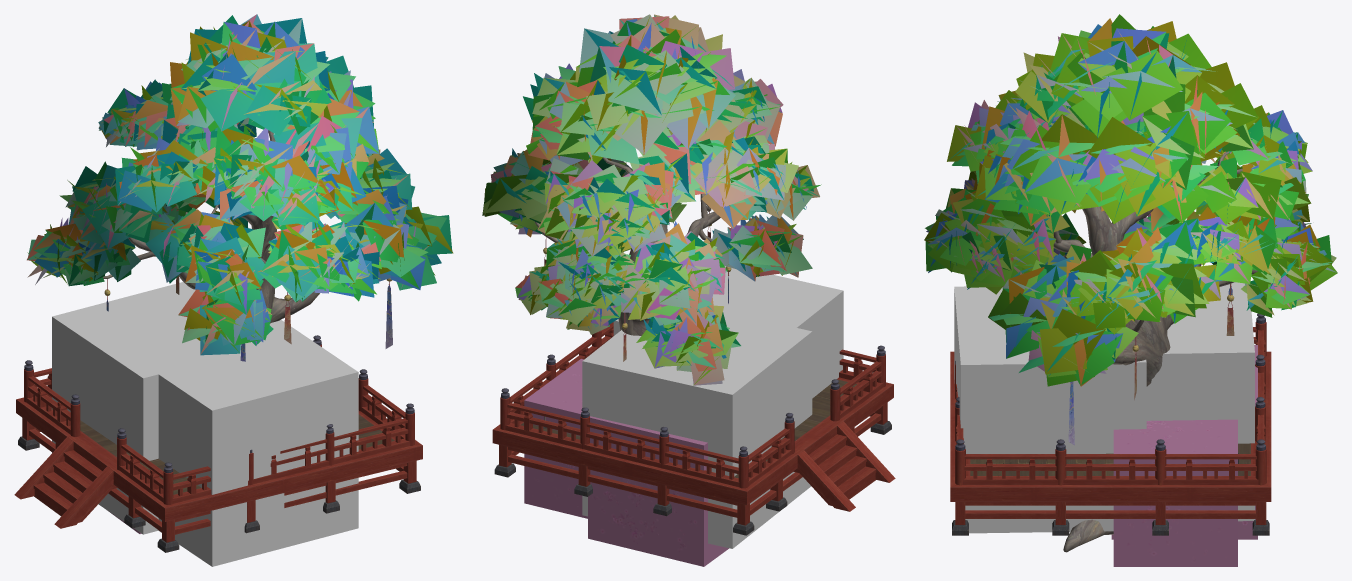
Rendered from Homeworld_Exterior_Dq_Build_Decoration_Sakura_01_Lod0.fbx.
3 renders of one model, left to right at view 1: azimuth 30°, elevation 25°; view 2: azimuth 150°, elevation 25°; view 3: azimuth 270°, elevation 25°, orthographic. The views are drawn at different scales.
Parts seen in each view (by area): view 1: Area_Dq_Tree_Common_Sak_02_Leaf_Lod0, Stages_Decal_Sakura_06_Vo, Homeworld_Exterior_Dq_Build_Decoration_Sakura_01_A_Lod0, Stages_Decal_Sakura_06_Vo (1), Area_Dq_Tree_Common_Sak_02_Bark_Lod0; view 2: Area_Dq_Tree_Common_Sak_02_Leaf_Lod0, Homeworld_Exterior_Dq_Build_Decoration_Sakura_01_A_Lod0, Stages_Decal_Sakura_06_Vo (1), Stages_Decal_Sakura_04_Vo, Stages_Decal_Sakura_06_Vo, Stages_Decal_Sakura_05_Vo, Area_Dq_Tree_Common_Sak_02_Bark_Lod0; view 3: Area_Dq_Tree_Common_Sak_02_Leaf_Lod0, Homeworld_Exterior_Dq_Build_Decoration_Sakura_01_A_Lod0, Stages_Decal_Sakura_06_Vo, Stages_Decal_Sakura_06_Vo (1), Stages_Decal_Sakura_05_Vo, Area_Dq_Tree_Common_Sak_02_Bark_Lod0.
Part boxes in pixels (x1=…): Area_Dq_Tree_Common_Sak_02_Leaf_Lod0: x1=27, y1=14, x2=453, y2=355; Stages_Decal_Sakura_06_Vo: x1=158, y1=320, x2=358, y2=566; Homeworld_Exterior_Dq_Build_Decoration_Sakura_01_A_Lod0: x1=14, y1=335, x2=422, y2=552; Stages_Decal_Sakura_06_Vo (1): x1=52, y1=282, x2=285, y2=534; Area_Dq_Tree_Common_Sak_02_Bark_Lod0: x1=103, y1=127, x2=319, y2=323; Area_Dq_Tree_Common_Sak_02_Leaf_Lod0: x1=482, y1=14, x2=821, y2=385; Homeworld_Exterior_Dq_Build_Decoration_Sakura_01_A_Lod0: x1=492, y1=322, x2=895, y2=535; Stages_Decal_Sakura_06_Vo (1): x1=582, y1=311, x2=812, y2=548; Stages_Decal_Sakura_04_Vo: x1=588, y1=416, x2=728, y2=566; Stages_Decal_Sakura_06_Vo: x1=613, y1=266, x2=843, y2=398; Stages_Decal_Sakura_05_Vo: x1=524, y1=359, x2=587, y2=518; Area_Dq_Tree_Common_Sak_02_Bark_Lod0: x1=534, y1=157, x2=720, y2=335; Area_Dq_Tree_Common_Sak_02_Leaf_Lod0: x1=924, y1=14, x2=1337, y2=386; Homeworld_Exterior_Dq_Build_Decoration_Sakura_01_A_Lod0: x1=950, y1=313, x2=1271, y2=535; Stages_Decal_Sakura_06_Vo: x1=954, y1=286, x2=1146, y2=533; Stages_Decal_Sakura_06_Vo (1): x1=1146, y1=282, x2=1254, y2=521; Stages_Decal_Sakura_05_Vo: x1=1113, y1=419, x2=1237, y2=566; Area_Dq_Tree_Common_Sak_02_Bark_Lod0: x1=1053, y1=151, x2=1257, y2=552.
Size of what is drawn, in the model's own units: 11.63 by 13.45 by 9.84.
